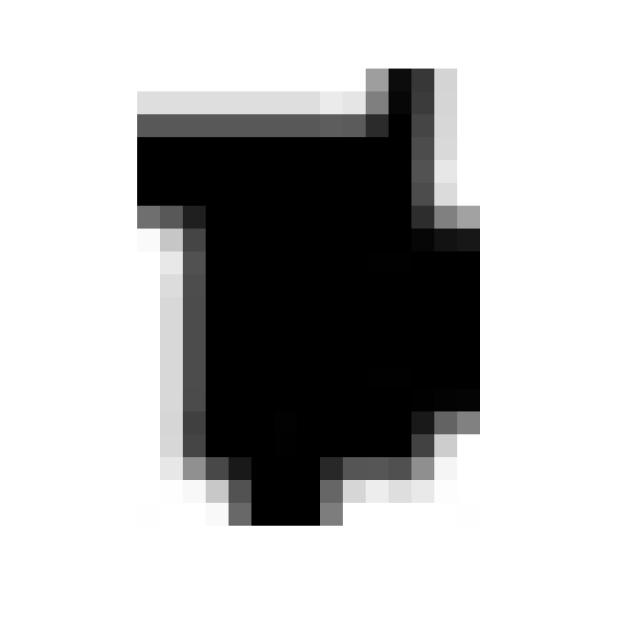0 -zero-: (119, 57, 496, 540)
